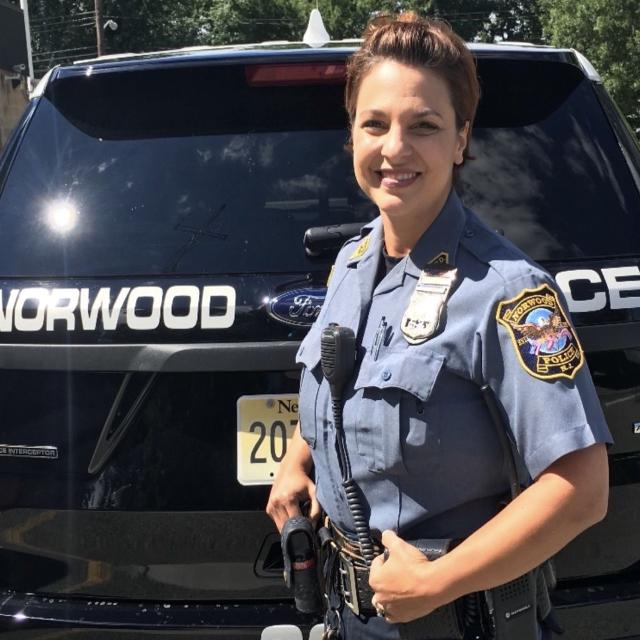police: (234, 7, 623, 640)
